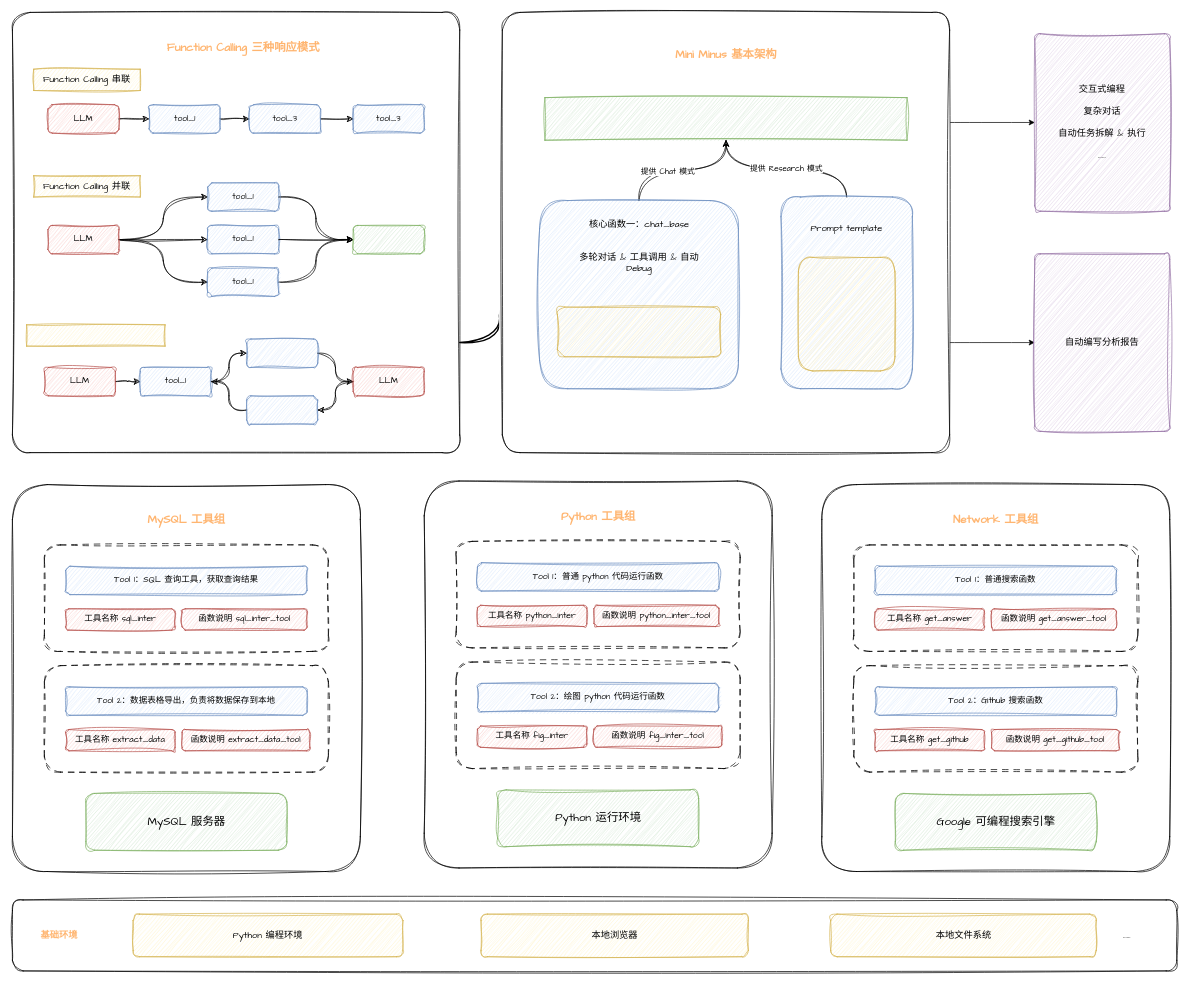
Some shapes in this 1189 by 983 pixel diagram are drawn without their labels. The shapes that lost their labels are listed below. From the top down, each one's box as (x1, y1, x2, y2) in pixels, then its label:
(544, 97, 907, 140): 核心属性：MODEL、API_KEY、BASE_URL、MESSAGES
(353, 225, 424, 254): Response
(557, 306, 721, 357): 辅助函数 create_function_response_messages
(798, 257, 895, 371): 需求挖掘 prompt_style_1 辅助文本编写 prompt_style_2
(26, 324, 165, 346): Function Calling & Debug
(246, 338, 318, 367): Debug
(246, 395, 318, 424): Solution
